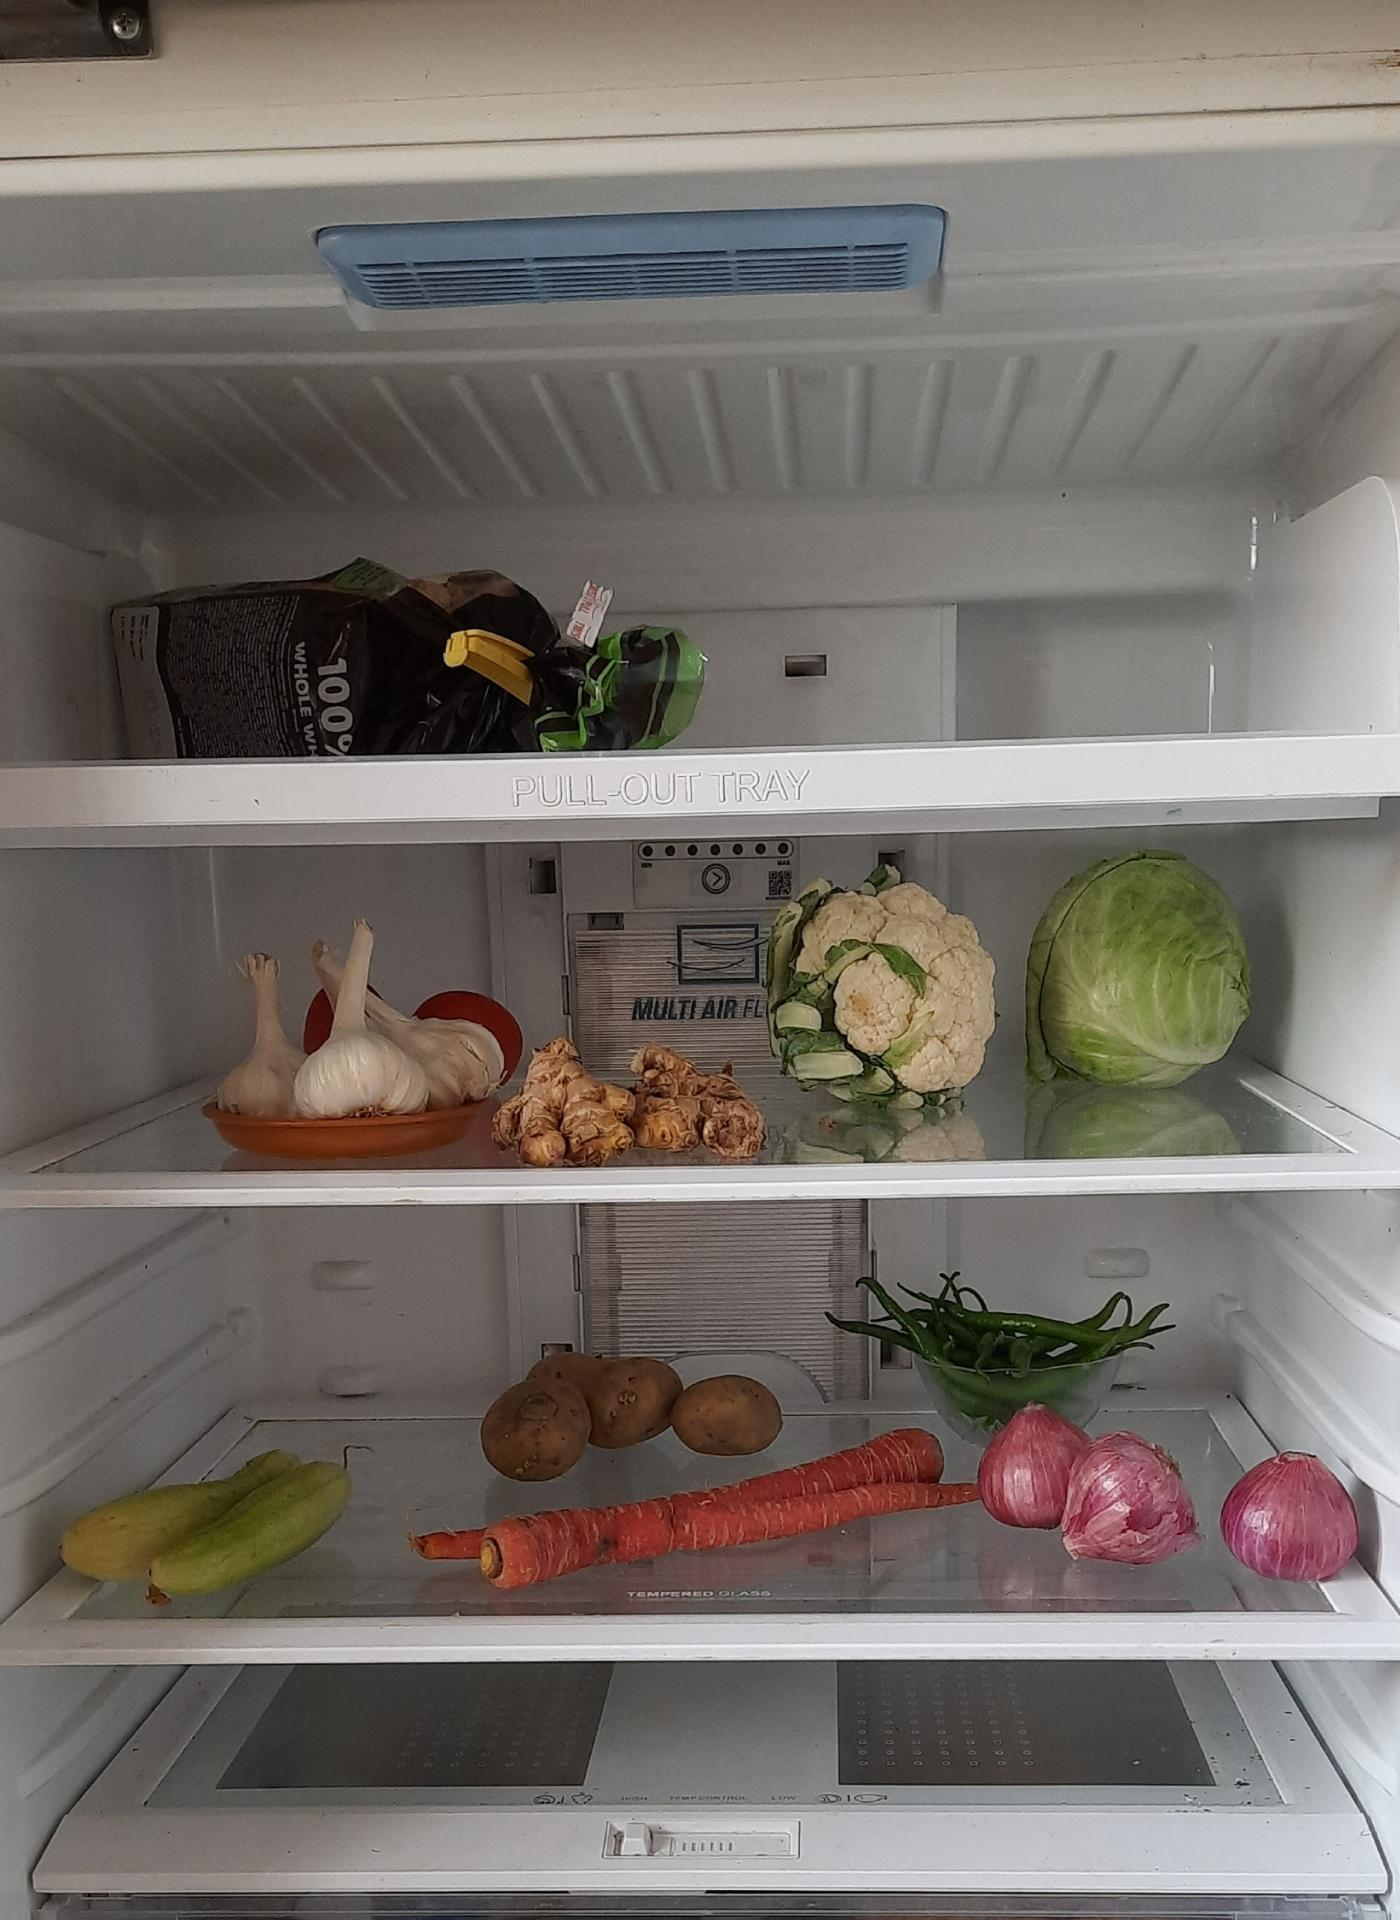bread: (113, 552, 681, 742)
cabbage: (1024, 859, 1249, 1096)
carrots: (428, 1436, 968, 1604)
cauliflower: (780, 888, 1002, 1097)
chillies: (871, 1278, 1160, 1418)
cucumber: (60, 1453, 355, 1607)
garlic: (213, 927, 491, 1117)
ginger: (496, 1045, 769, 1160)
onion: (971, 1391, 1203, 1576), (1217, 1444, 1361, 1582)
potato: (474, 1354, 781, 1477)
